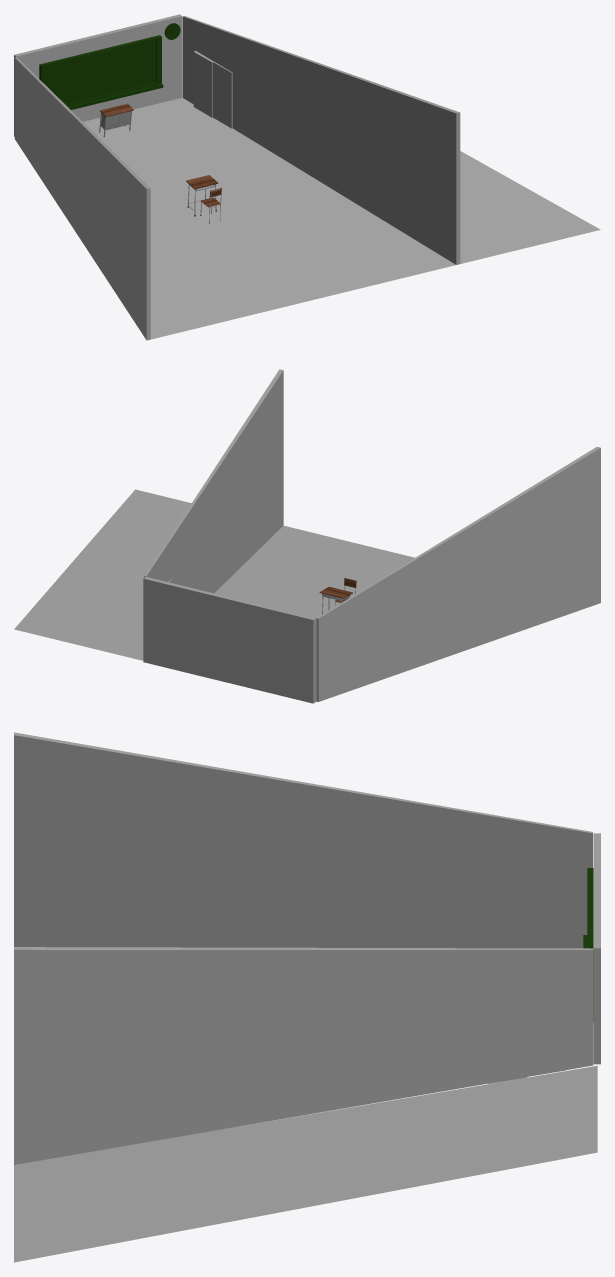
File: classroom_2.fbx
The picture shows the model from 3 angles, top to bottom: view 1: azimuth 30°, elevation 25°; view 2: azimuth 150°, elevation 25°; view 3: azimuth 270°, elevation 25°; orthographic projection. The views are drawn at different scales.
Parts seen in each view (by area): view 1: floor_, wall1, wall, rouka, blackbord, wall2, pCube26, pCube27; view 2: wall, wall2, wall1, rouka, floor_; view 3: wall1, wall, rouka, wall2, blackbord.
Boxes of the visible parts, <box> form: floor_: <box>83,97,455,339</box>; wall1: <box>182,16,460,264</box>; wall: <box>14,57,150,340</box>; rouka: <box>460,151,600,263</box>; blackbord: <box>39,35,163,109</box>; wall2: <box>14,14,182,136</box>; pCube26: <box>193,51,213,117</box>; pCube27: <box>213,62,232,128</box>; wall: <box>316,447,600,701</box>; wall2: <box>143,577,315,703</box>; wall1: <box>144,369,283,593</box>; rouka: <box>14,489,191,660</box>; floor_: <box>214,525,414,701</box>; wall1: <box>14,947,593,1164</box>; wall: <box>14,732,593,948</box>; rouka: <box>14,1065,597,1262</box>; wall2: <box>594,833,600,1064</box>; blackbord: <box>583,868,593,1021</box>.
Bounding box in the file's own units: 1149 × 366 × 905.
